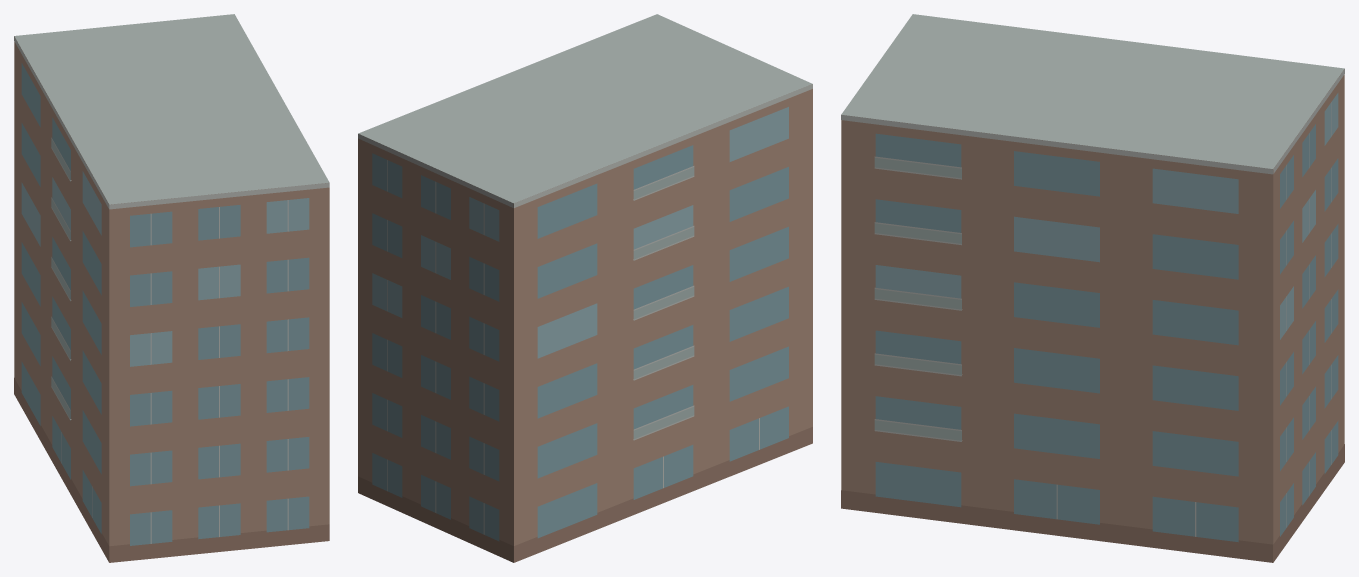
Rendered from survey-upis-32876928.glb.
3 views of the same model, side by side, from view 1: azimuth 30°, elevation 25°; view 2: azimuth 150°, elevation 25°; view 3: azimuth 270°, elevation 25° (orthographic). The views are drawn at different scales.
Parts seen in each view (by area): view 1: survey-upis-32876928.tmp; view 2: survey-upis-32876928.tmp; view 3: survey-upis-32876928.tmp.
Part boxes in pixels (<box>): survey-upis-32876928.tmp: <box>14,14,329,562</box>; survey-upis-32876928.tmp: <box>358,14,812,562</box>; survey-upis-32876928.tmp: <box>841,14,1344,562</box>.
Size of the model in its own units: 15.22 by 18 by 20.88.
